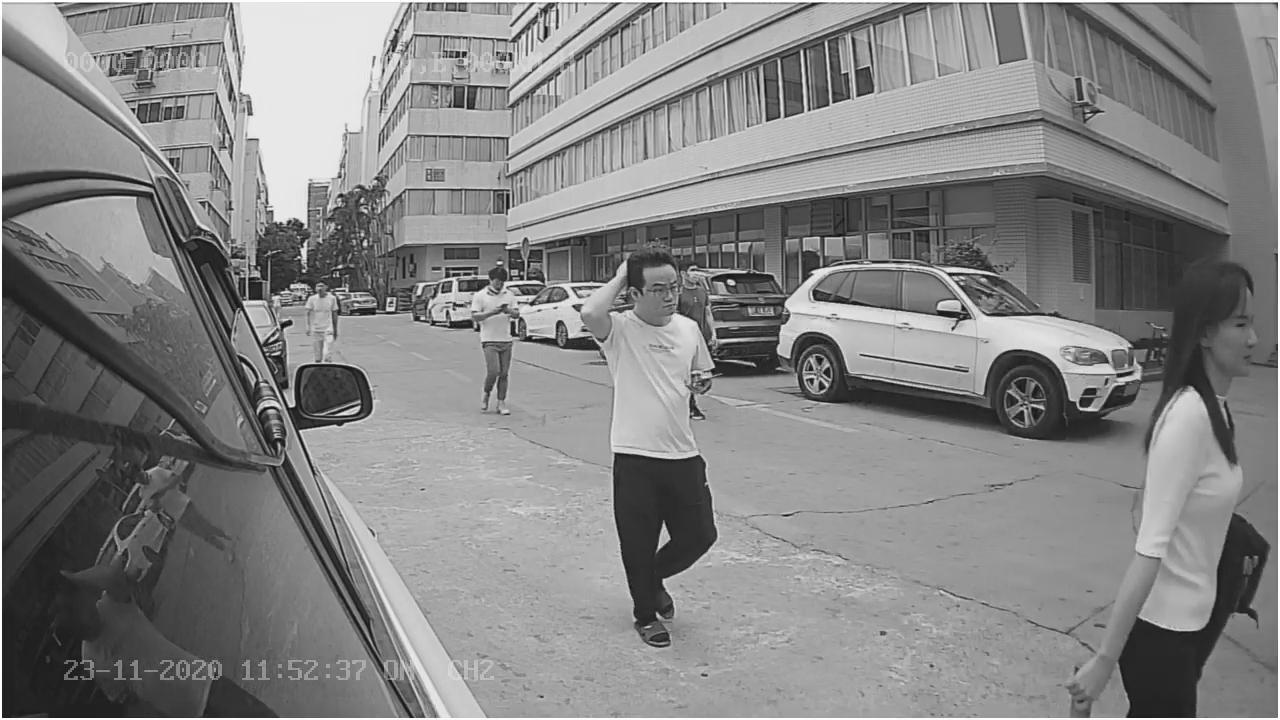person: (1136, 256, 1249, 686), (592, 248, 713, 620)
